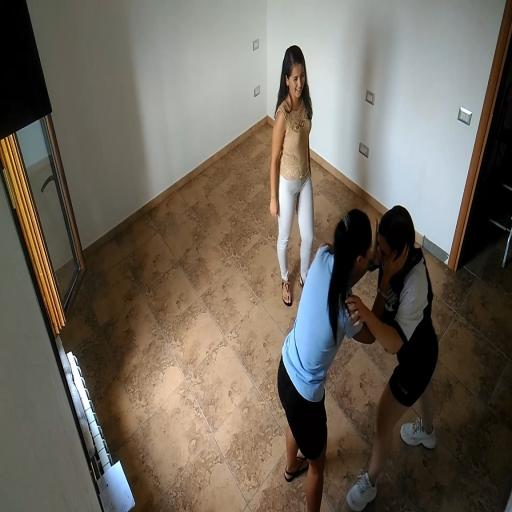nao-violencia: (272, 194, 450, 508)
